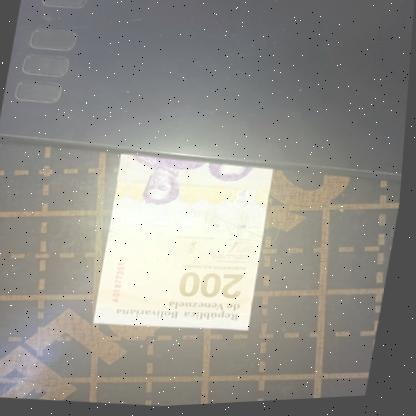two_hundred-front-vef: (95, 148, 283, 342)
